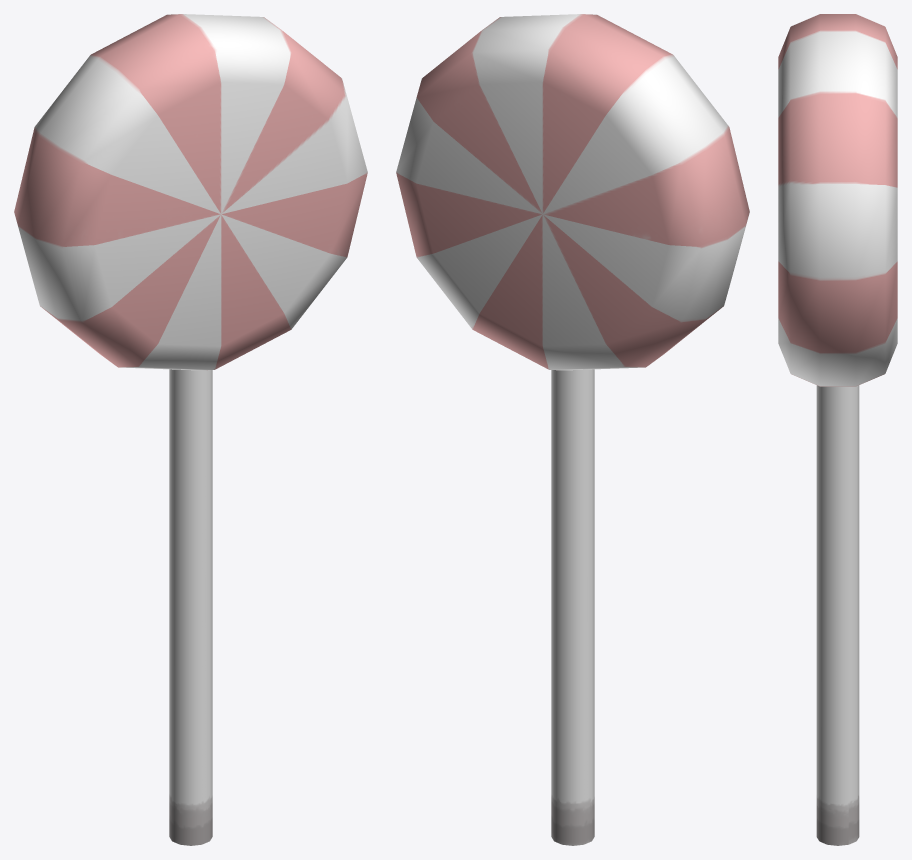
Rendered from Candy_1.fbx.
The picture shows the model from 3 angles, left to right: view 1: azimuth 30°, elevation 25°; view 2: azimuth 150°, elevation 25°; view 3: azimuth 270°, elevation 25°; orthographic projection.
Visible parts, largest first — view 1: Candy_1; view 2: Candy_1; view 3: Candy_1.
Boxes of the visible parts, box(x1,y1,x2,y2) form: Candy_1: box(14, 14, 367, 845); Candy_1: box(396, 14, 749, 845); Candy_1: box(778, 14, 897, 845).
Bounding box in the file's own units: 1.02 × 2.42 × 0.3248.
